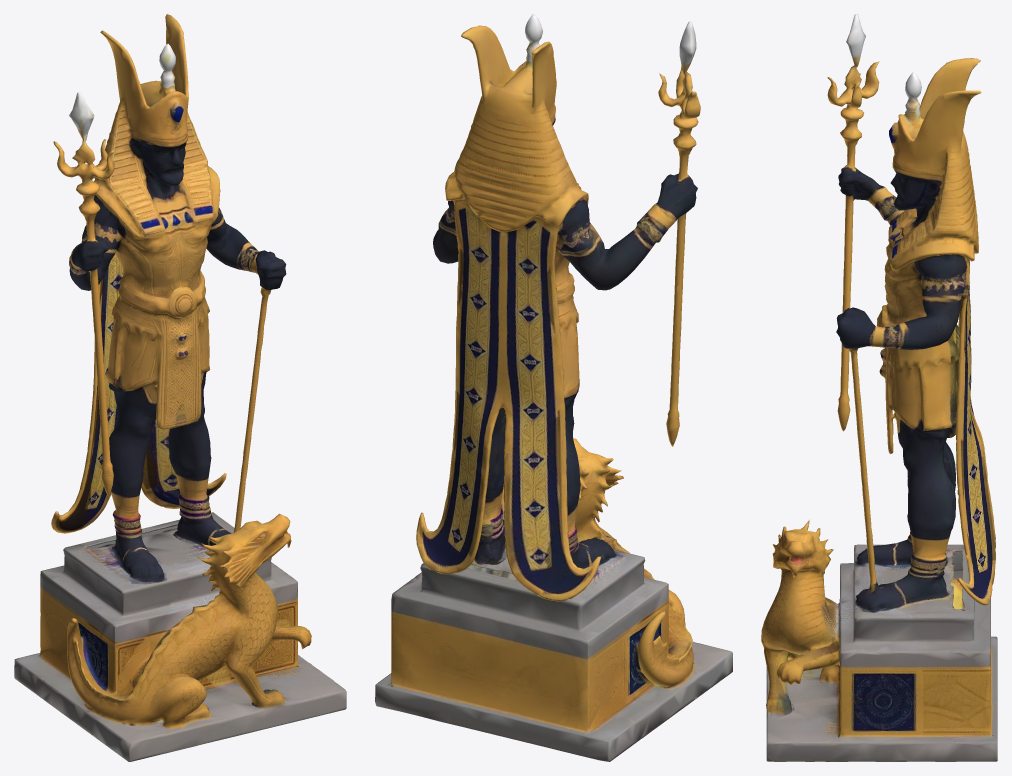
File: babylon_marduk.glb
3 renders of one model, left to right at view 1: azimuth 30°, elevation 25°; view 2: azimuth 150°, elevation 25°; view 3: azimuth 270°, elevation 25°, orthographic. The views are drawn at different scales.
Size of the model in its own units: 0.7447 by 1.91 by 0.6388.
Materials: 1 (1 with a texture image).
